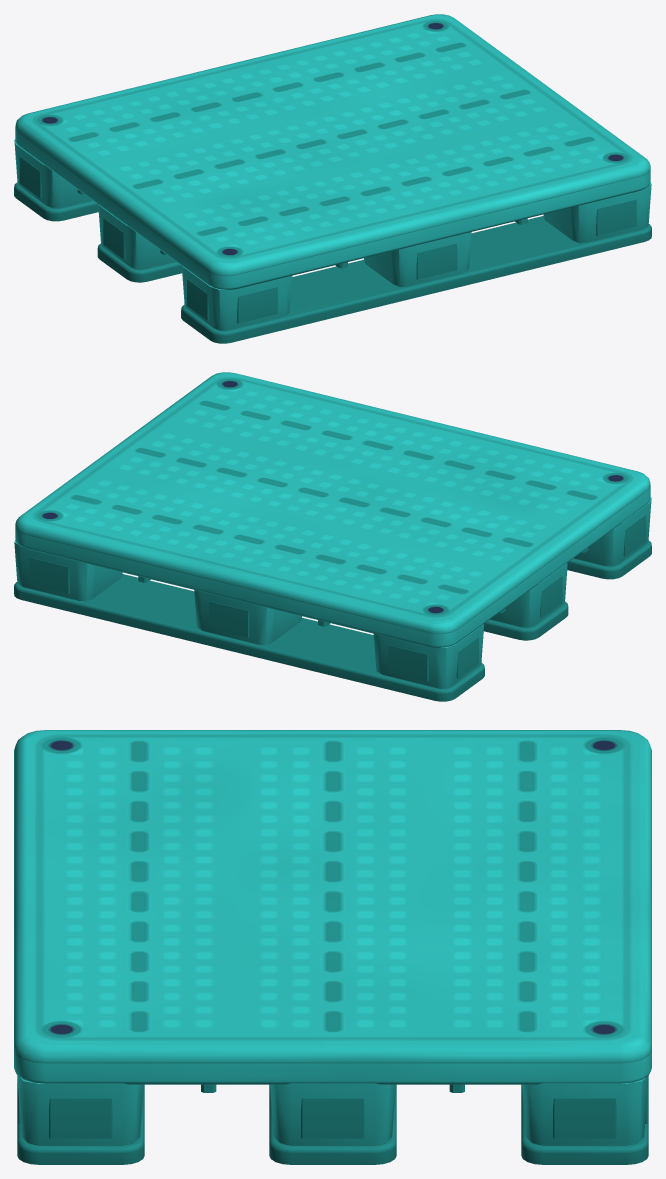
The model's file is reception_pallet.glb.
3 views of the same model, one above another, from view 1: azimuth 30°, elevation 25°; view 2: azimuth 150°, elevation 25°; view 3: azimuth 270°, elevation 25° (orthographic). The views are drawn at different scales.
Visible parts, largest first — view 1: reception_pallet_LOD0; view 2: reception_pallet_LOD0; view 3: reception_pallet_LOD0.
Boxes of the visible parts, x1,y1,x2,y2 form: reception_pallet_LOD0: (14,14,651,343); reception_pallet_LOD0: (14,372,651,701); reception_pallet_LOD0: (14,730,651,1164).
Bounding box in the file's own units: 12 × 2 × 10.
Materials: 1 (1 with a texture image).
